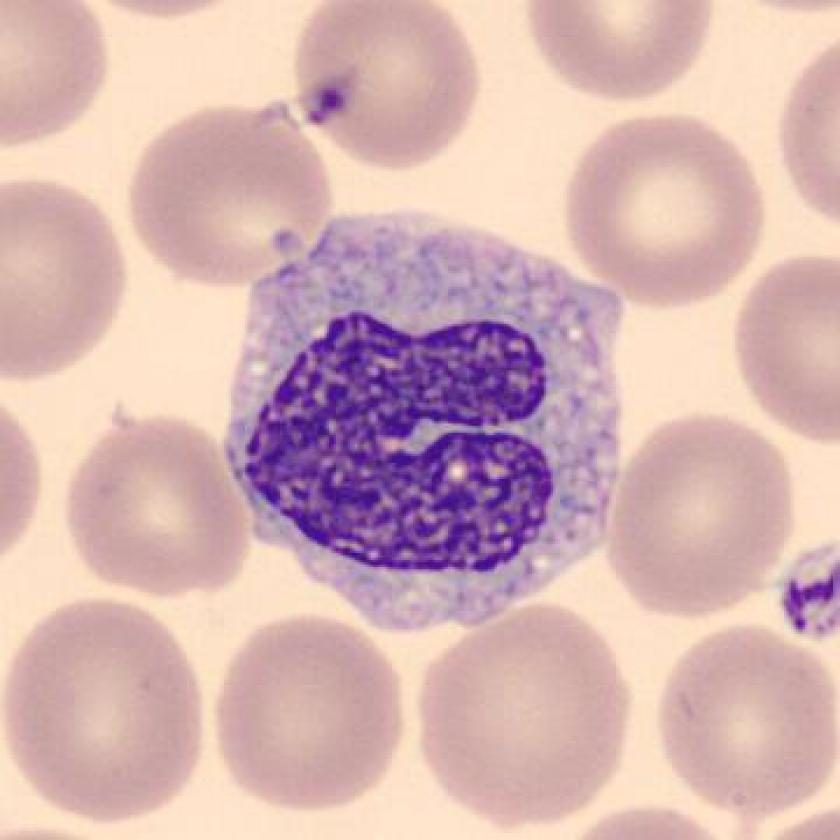monocyte: (209, 186, 654, 658)
